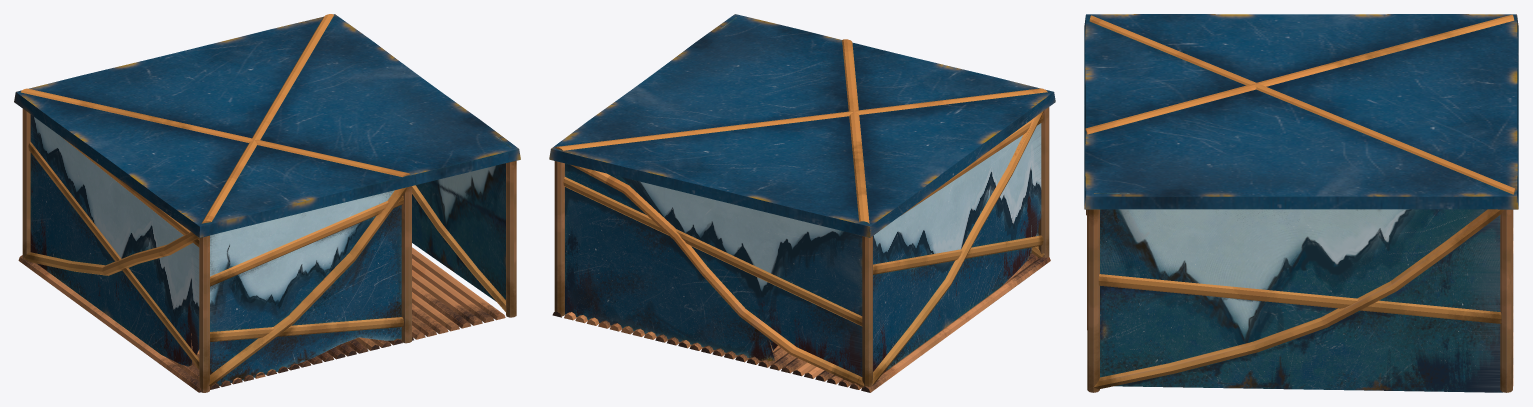
File: Rumah1J.fbx
3 renders of one model, left to right at view 1: azimuth 30°, elevation 25°; view 2: azimuth 150°, elevation 25°; view 3: azimuth 270°, elevation 25°, orthographic. The views are drawn at different scales.
Parts seen in each view (by area): view 1: Texture Rumah_lv2-1; view 2: Texture Rumah_lv2-1; view 3: Texture Rumah_lv2-1.
Part boxes in pixels (x1=…): Texture Rumah_lv2-1: x1=14, y1=14, x2=520, y2=392; Texture Rumah_lv2-1: x1=549, y1=14, x2=1055, y2=392; Texture Rumah_lv2-1: x1=1084, y1=14, x2=1518, y2=392.
Size of the model in its own units: 628 by 322 by 628.
5 materials, 5 textured.
